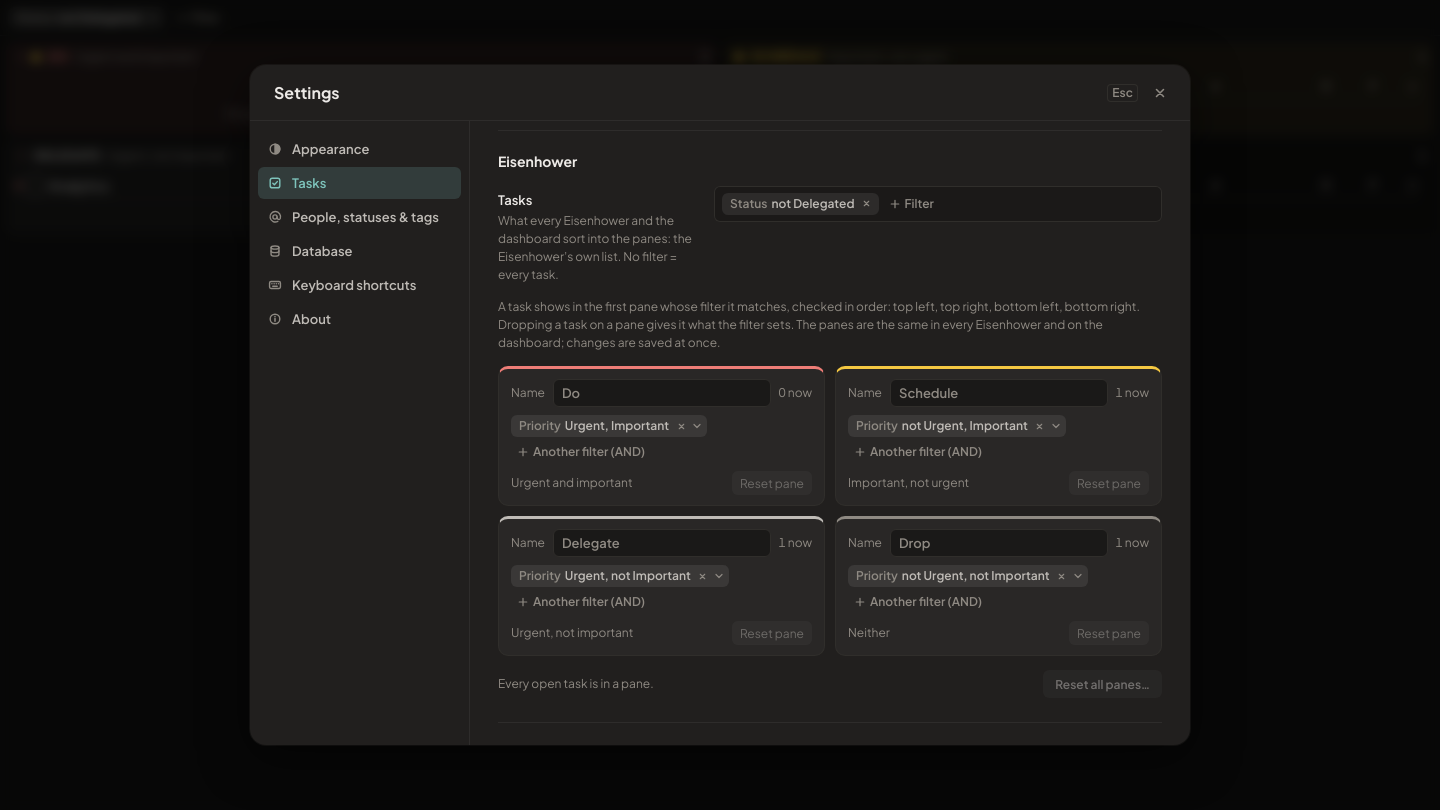
Settings › Tasks › Eisenhower › its list’s filter line › a change edits the same draft as the widget’s filter line: both unsaved, Save from Settings writes it
The width and height of the screenshot is (1440, 810).
(page scrolled)
Click the 1st button named "Remove filter". click: (866, 204)
box: [858,196,874,212]
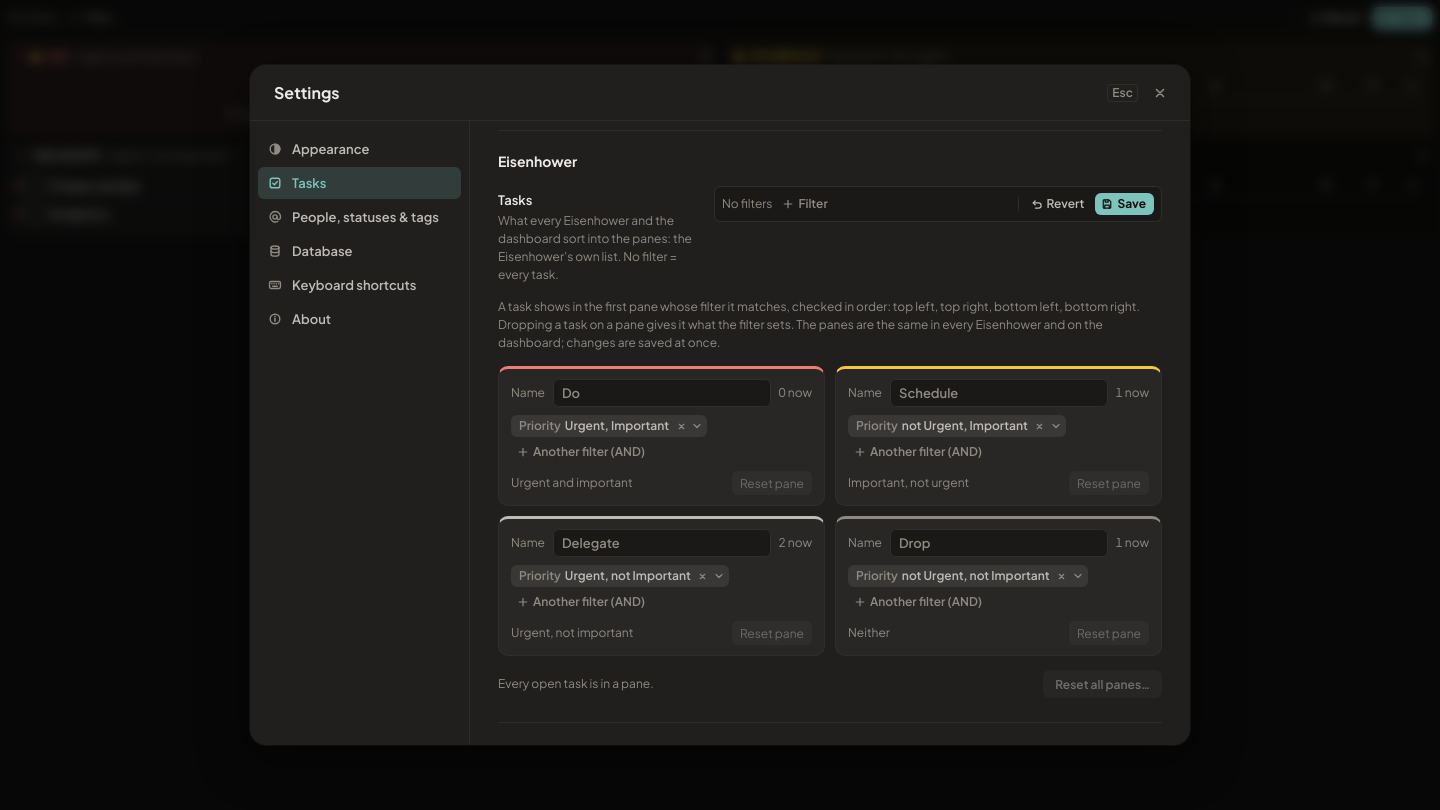
Now the button with test id "save-list" showing "Save" is shown
Now the 1st button with test id "save-list" is shown, box [1373,6,1432,28]
Click the button with test id "save-list" showing "Save". click: (1125, 204)
box: [1095,192,1154,214]
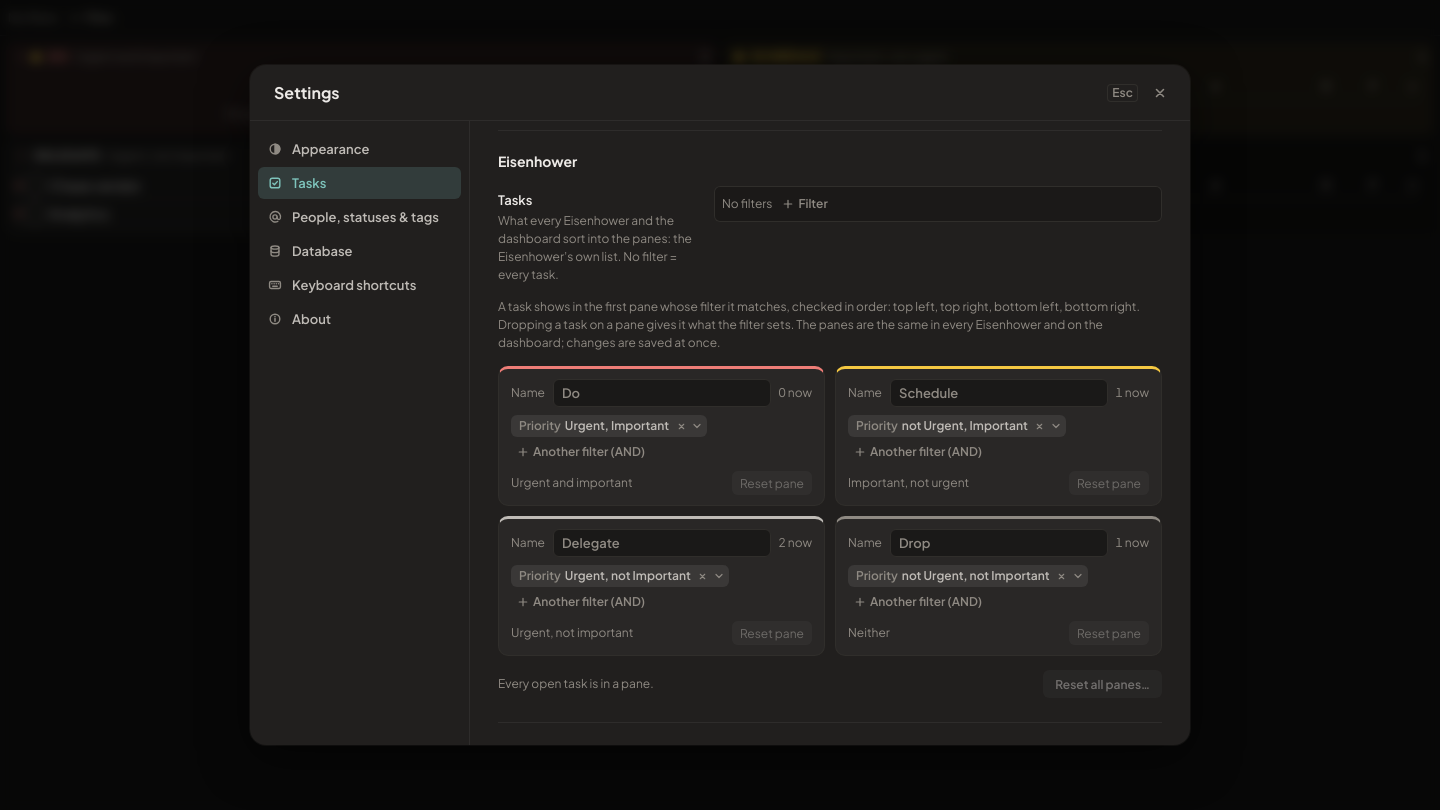
Now the button with test id "save-list" is gone
